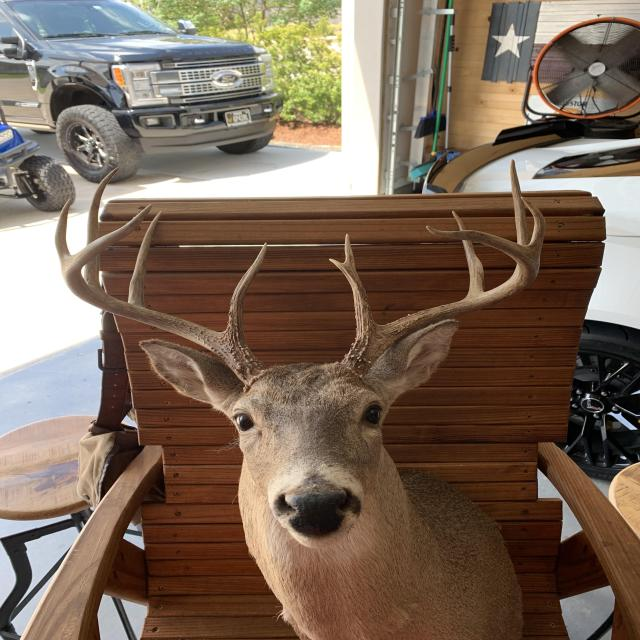E1: (329, 258, 344, 270)
L-F: (334, 225, 540, 383)
L-G1: (341, 233, 379, 337)
L-G4: (521, 196, 546, 258)
R-F: (61, 203, 271, 393)
R-G1: (221, 241, 267, 343)
R-G2: (128, 209, 163, 308)
R-G4: (54, 198, 72, 265)
